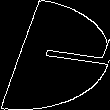L_W: (9, 34, 101, 76)
